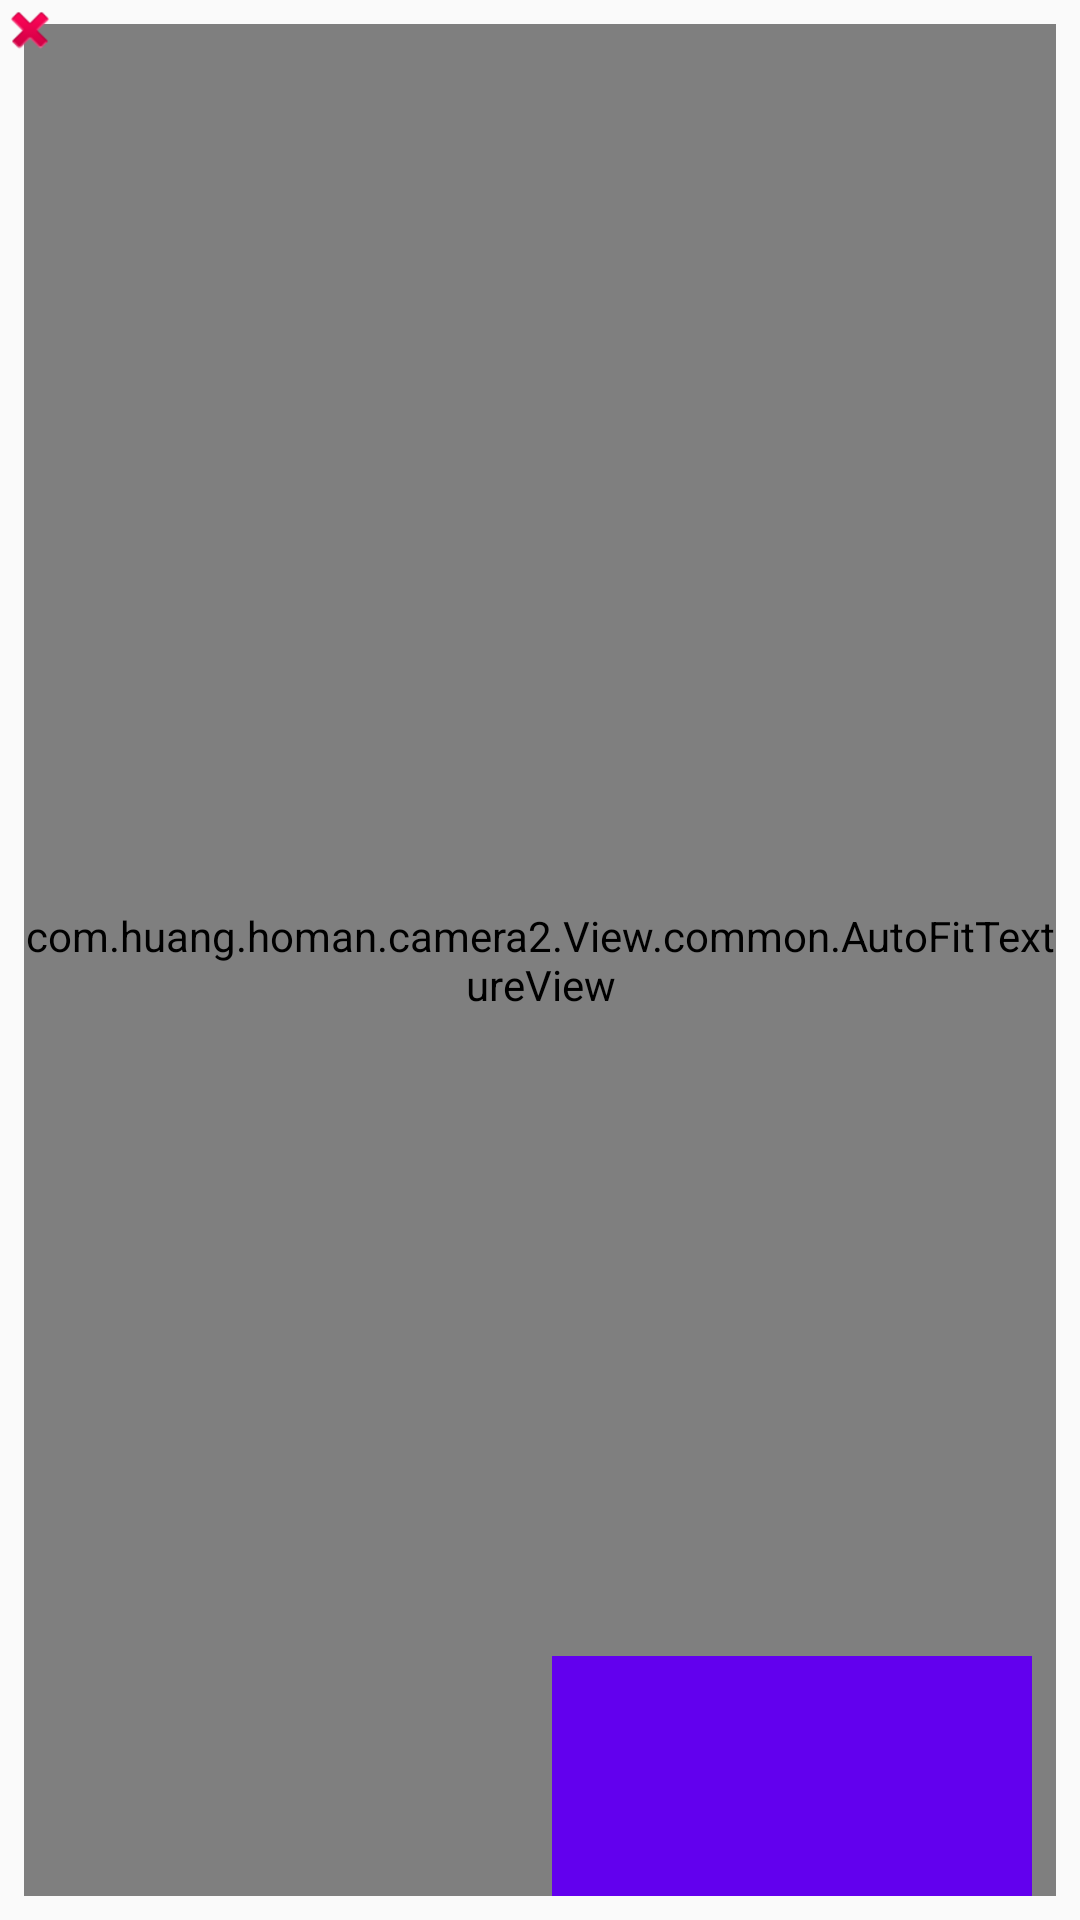

Named icons in this screenshot (1080 x 1920) and their centers, point (x, y):
delete: point (30, 30)
